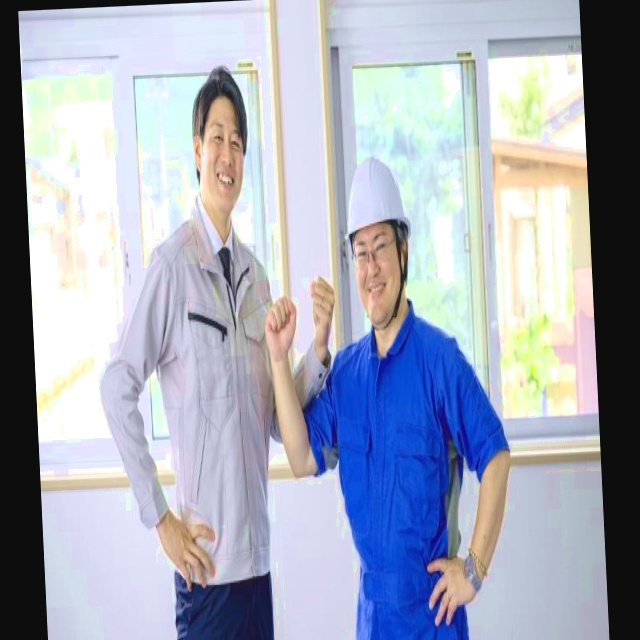Con_Casco: (344, 152, 417, 332)
Sin_Casco_Mascarrilla: (188, 65, 255, 218)
Sin_Chaleco: (148, 227, 281, 580), (330, 324, 469, 623)
